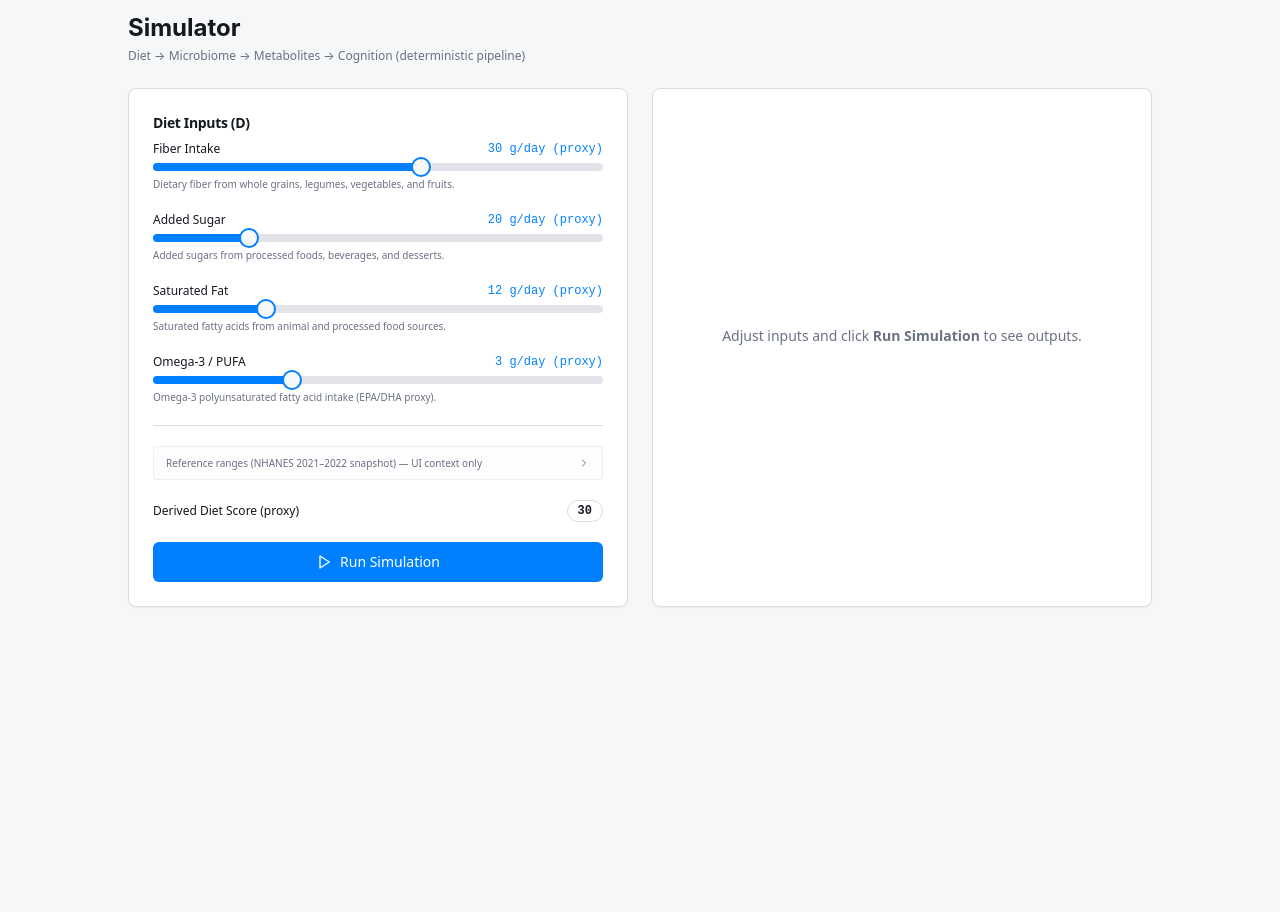
Test case: Simulator — run hash presenter cue › does NOT show run-hash-presenter-cue when presenterMode=false
Click the button "Run Simulation". click: (378, 562)
box: [153,542,603,582]
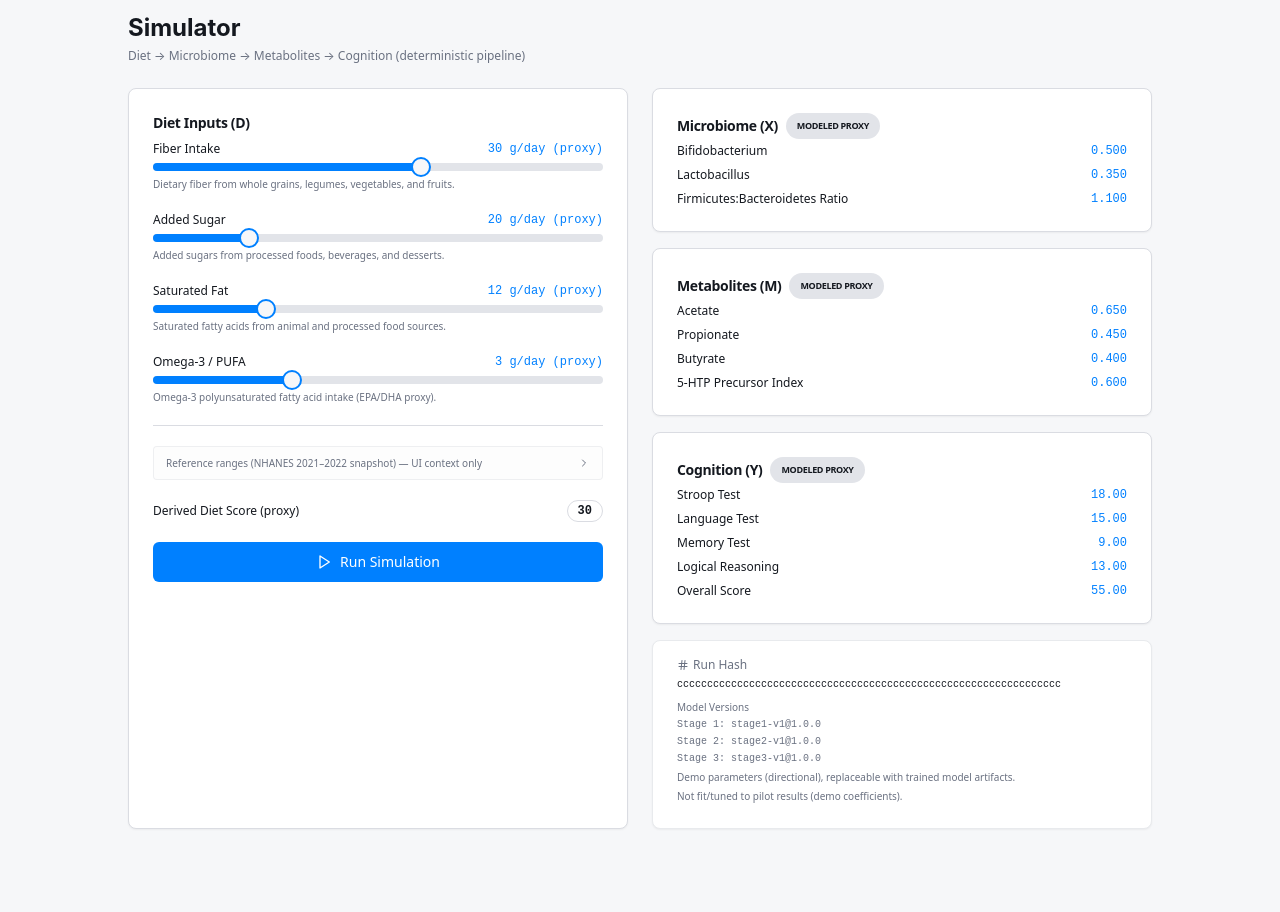
Check: the text "Run Hash" is shown, box [677,656,747,673]
